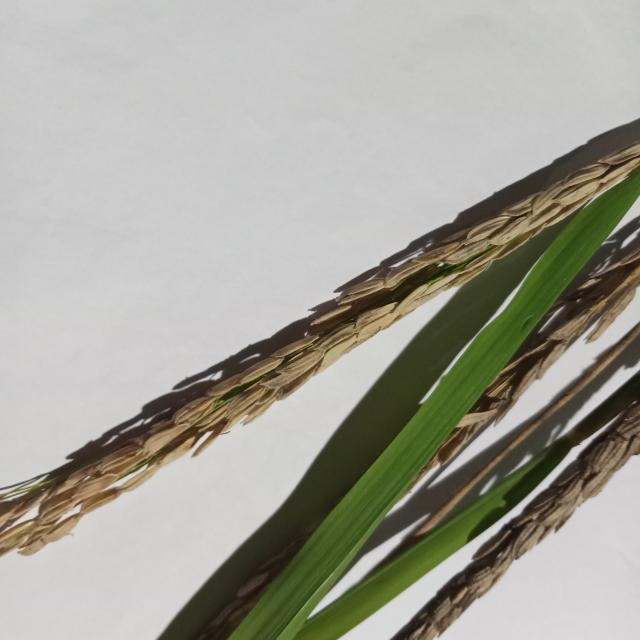Neck_Blast: (0, 145, 640, 558), (383, 387, 640, 639), (427, 240, 640, 471)
